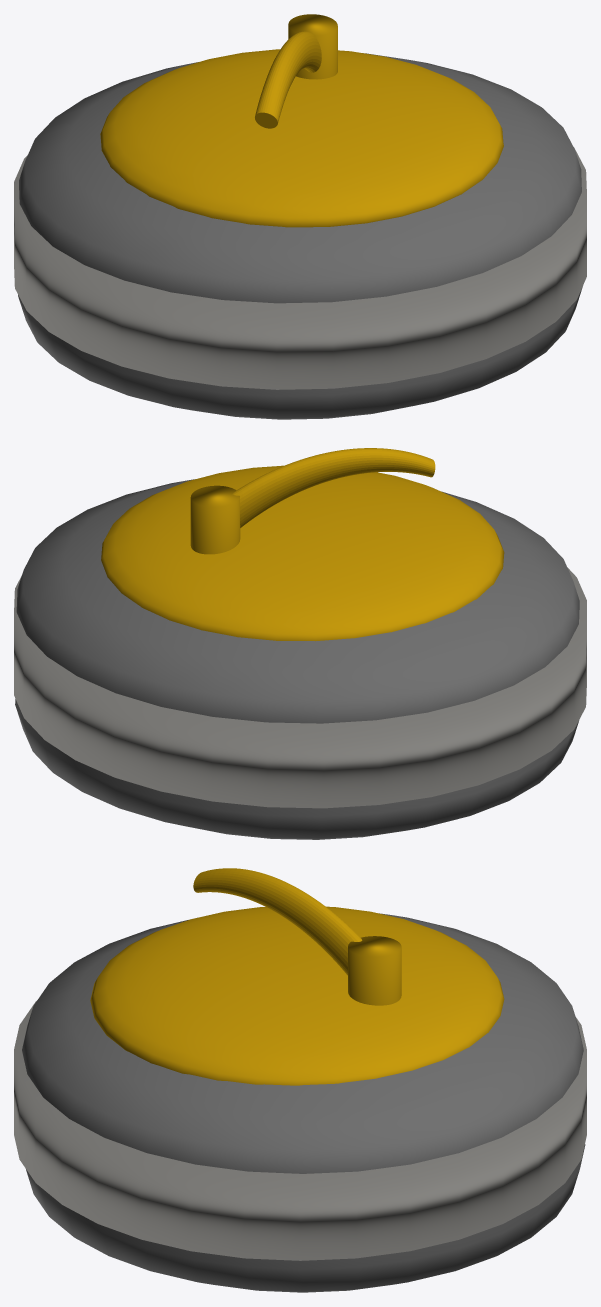
File: yellow_rock_TEST_VRAI.glb
The picture shows the model from 3 angles, top to bottom: view 1: azimuth 30°, elevation 25°; view 2: azimuth 150°, elevation 25°; view 3: azimuth 270°, elevation 25°; orthographic projection. The views are drawn at different scales.
Parts seen in each view (by area): view 1: Sphere, Sphere.001, Cylinder.002, Cylinder, Cylinder.001; view 2: Sphere, Cylinder.002, Sphere.001, Cylinder, Cylinder.001; view 3: Sphere, Sphere.001, Cylinder.002, Cylinder, Cylinder.001.
Part boxes in pixels (x1,y1,x2,y2): Sphere: (18, 53, 582, 419); Sphere.001: (100, 49, 503, 227); Cylinder.002: (14, 147, 586, 389); Cylinder: (255, 31, 321, 128); Cylinder.001: (288, 14, 337, 79); Sphere: (15, 479, 579, 839); Cylinder.002: (14, 567, 586, 808); Sphere.001: (101, 465, 504, 641); Cylinder: (232, 448, 435, 527); Cylinder.001: (190, 485, 240, 554); Sphere: (22, 913, 585, 1292); Sphere.001: (90, 906, 504, 1085); Cylinder.002: (14, 1001, 586, 1260); Cylinder: (193, 868, 362, 975); Cylinder.001: (348, 936, 401, 1005).
Size of the model in its own units: 2.37 by 1.37 by 2.28.
